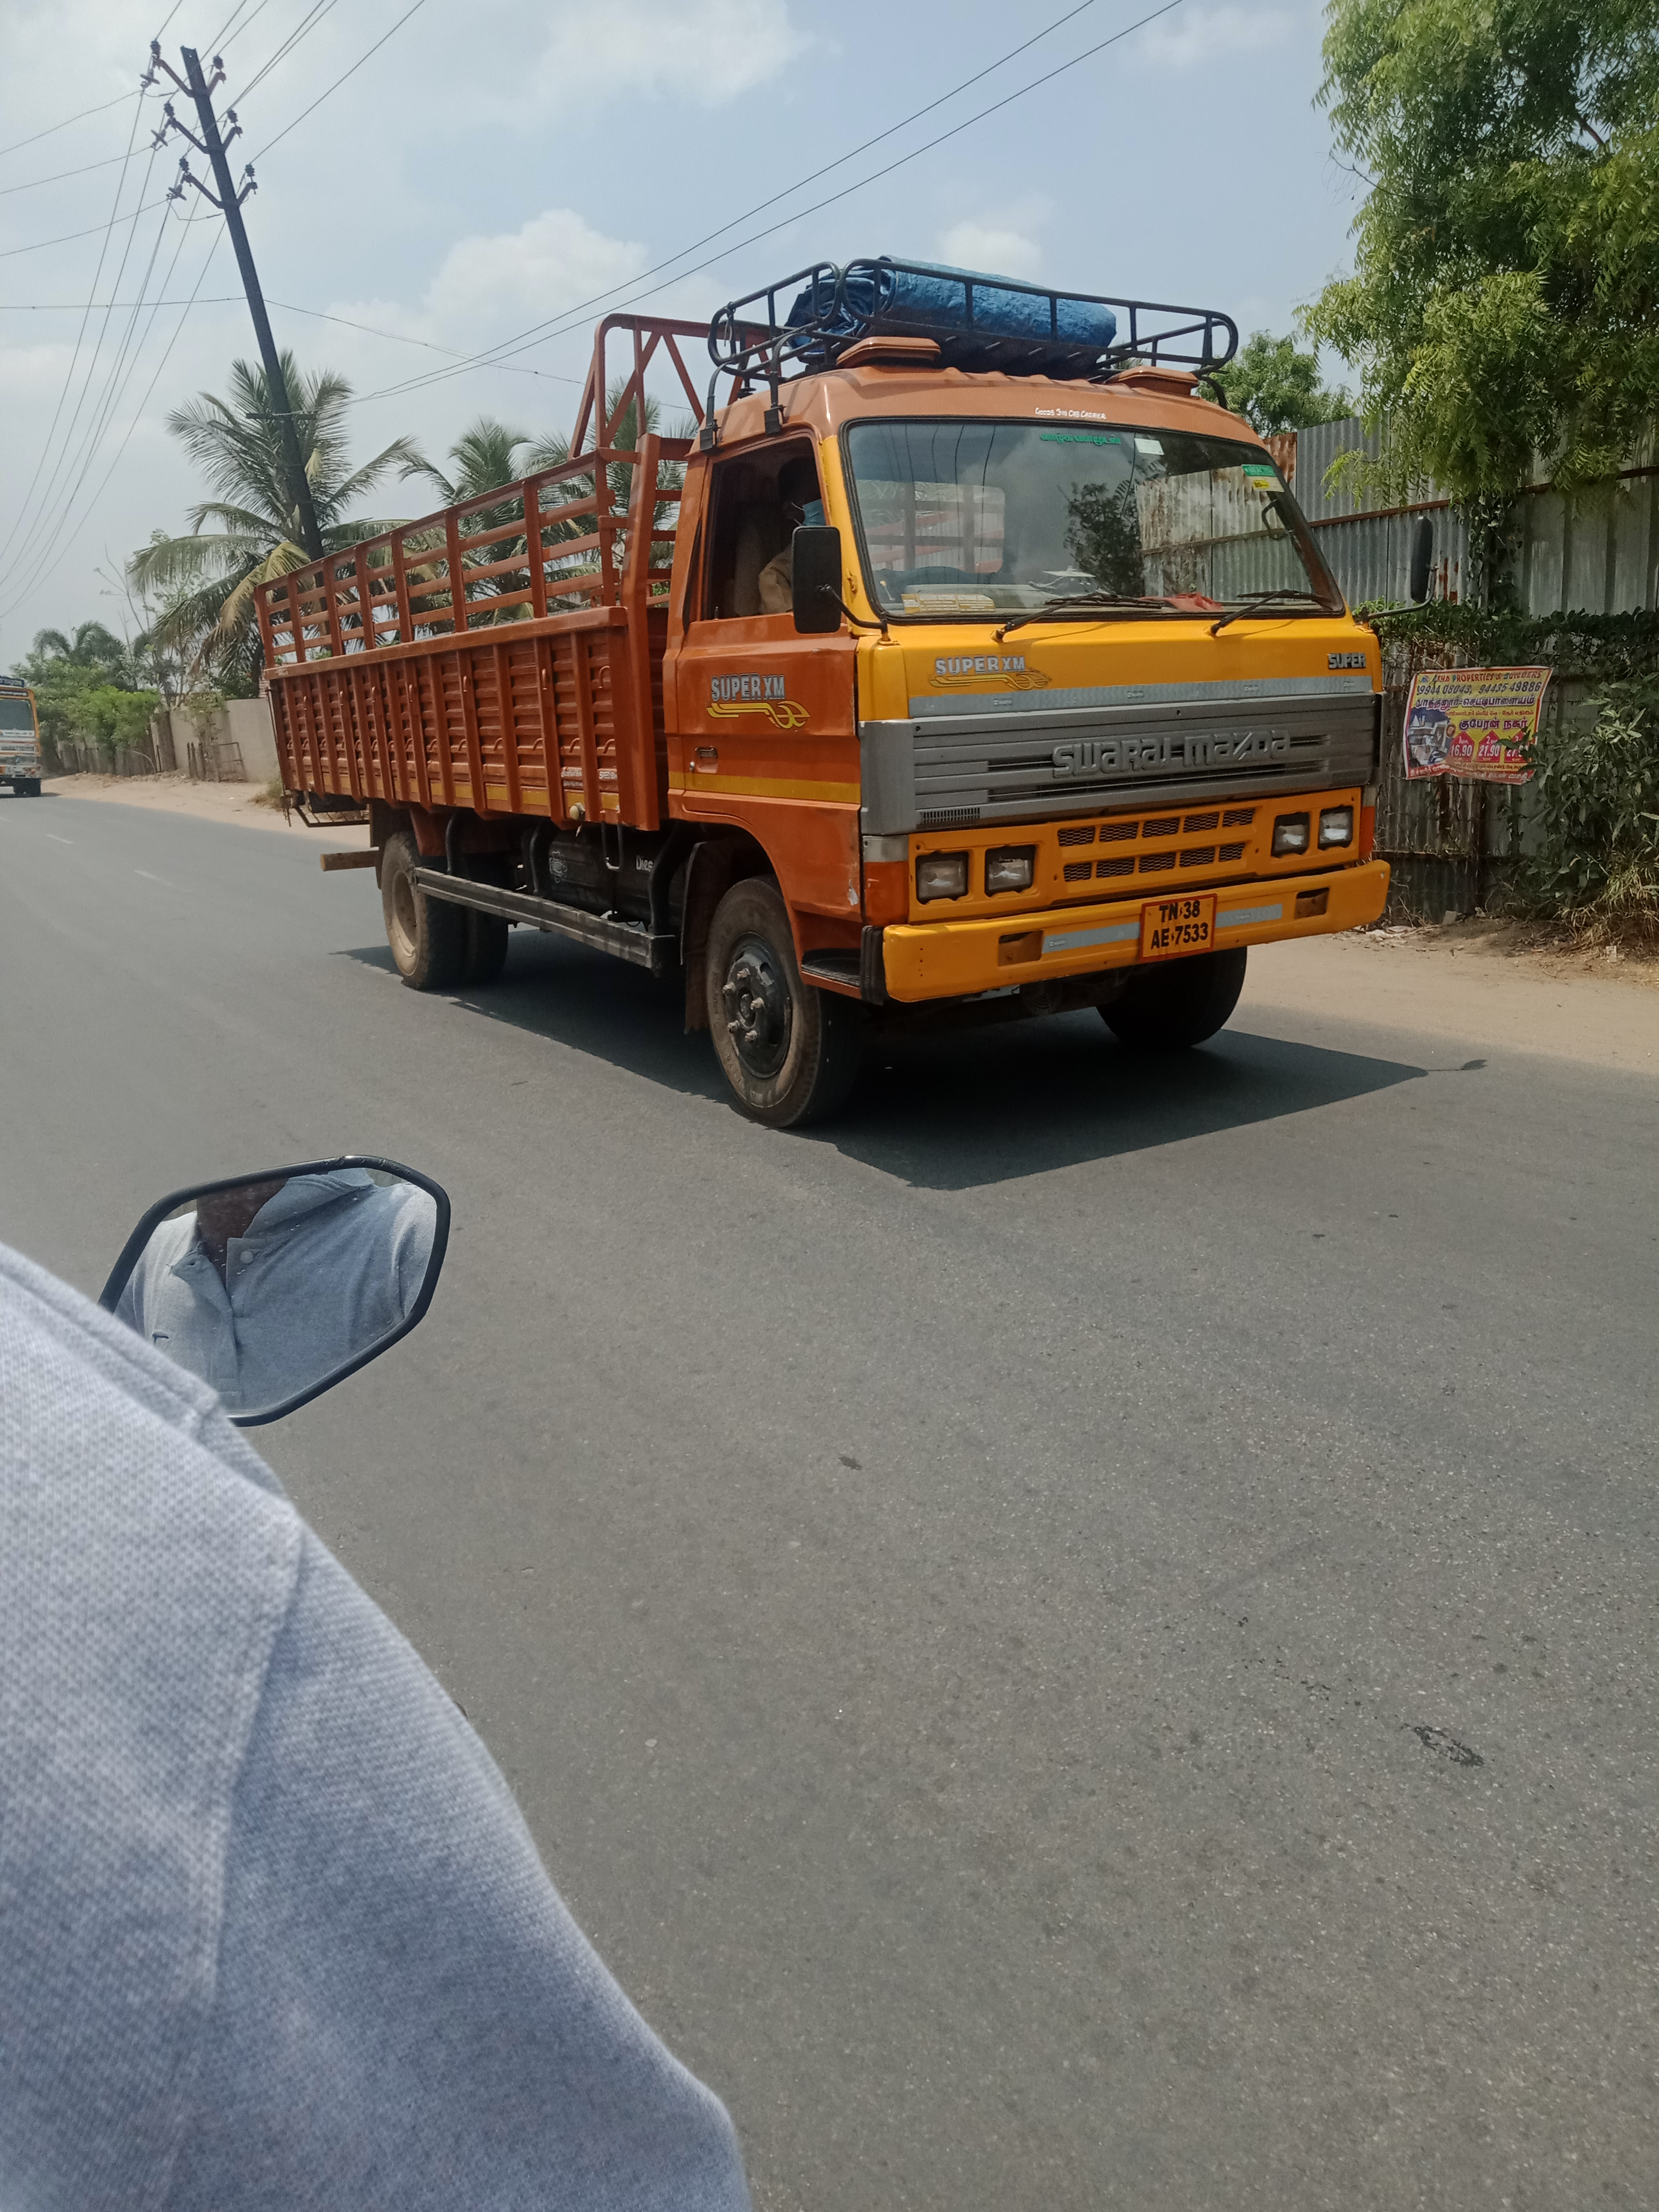truck: (251, 249, 1394, 1134), (0, 674, 44, 798)
